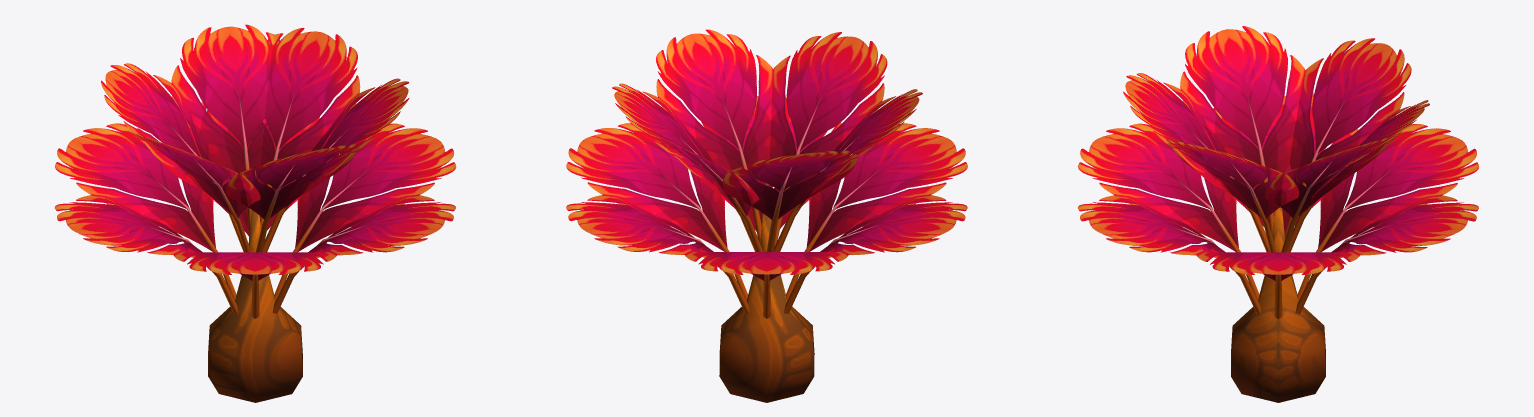
The model's file is Red_Tree_01a.FBX.
The picture shows the model from 3 angles, left to right: view 1: azimuth 30°, elevation 25°; view 2: azimuth 150°, elevation 25°; view 3: azimuth 270°, elevation 25°; orthographic projection.
Parts seen in each view (by area): view 1: Red_Tree_01a; view 2: Red_Tree_01a; view 3: Red_Tree_01a.
Boxes of the visible parts, <box> form: Red_Tree_01a: <box>54,24,456,402</box>; Red_Tree_01a: <box>566,29,967,402</box>; Red_Tree_01a: <box>1078,26,1478,402</box>.
Bounding box in the file's own units: 153 × 119 × 169.
